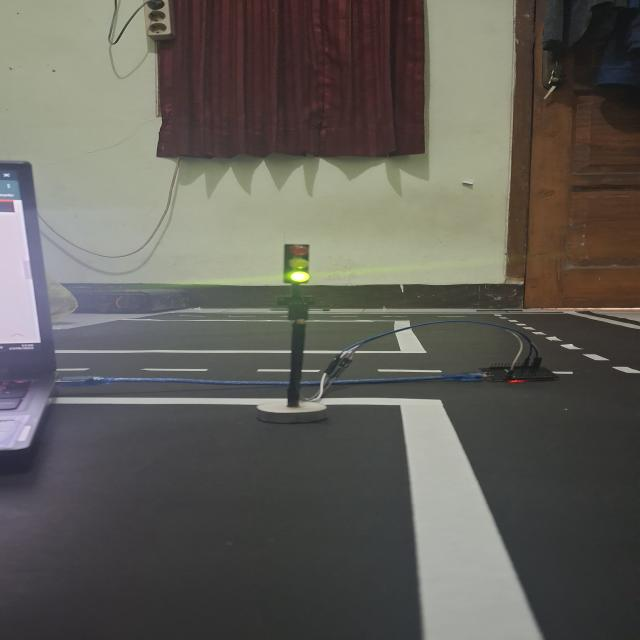Lampu Hijau: (283, 243, 311, 284)
